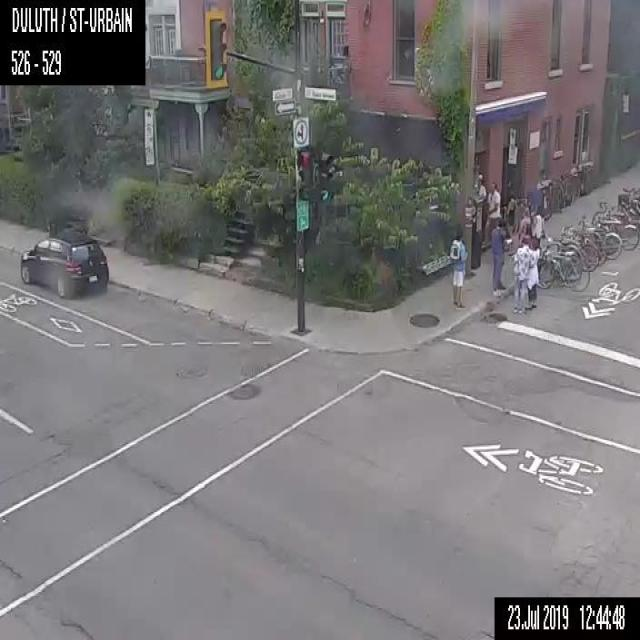pedestrian: (448, 229, 469, 307), (511, 237, 529, 309), (484, 181, 500, 247), (491, 219, 505, 294), (500, 190, 516, 240), (528, 236, 538, 308), (519, 208, 531, 252), (532, 212, 544, 249)
vehicle: (18, 231, 109, 297)
